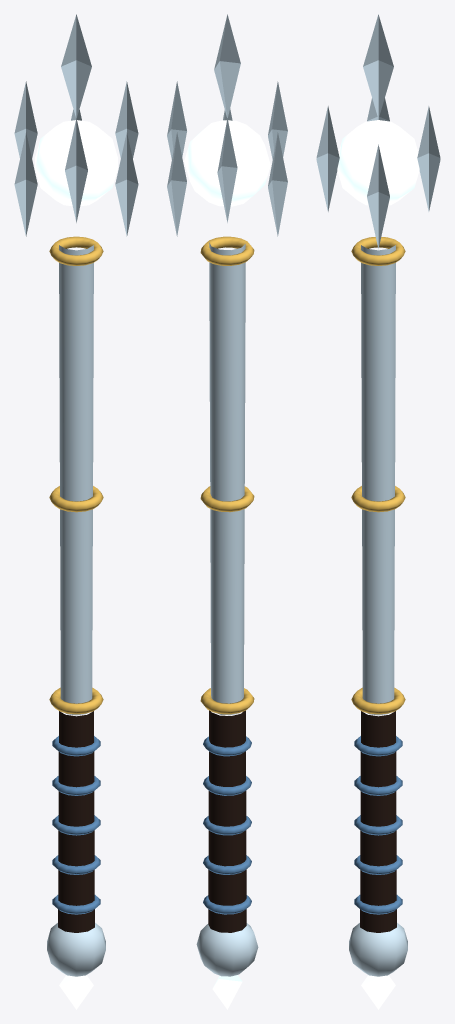
The model's file is scepter_5.glb.
3 views of the same model, side by side, from view 1: azimuth 90°, elevation 25°; view 2: azimuth 210°, elevation 25°; view 3: azimuth 270°, elevation 25° (orthographic).
Visible parts, largest first — view 1: scepter_5; view 2: scepter_5; view 3: scepter_5.
Boxes of the visible parts, left/top/right/bottom form: scepter_5: left=14, top=14, right=138, bottom=1009; scepter_5: left=167, top=14, right=287, bottom=1009; scepter_5: left=316, top=14, right=440, bottom=1009.
Size of the model in its own units: 0.144 by 1.13 by 0.1279.
